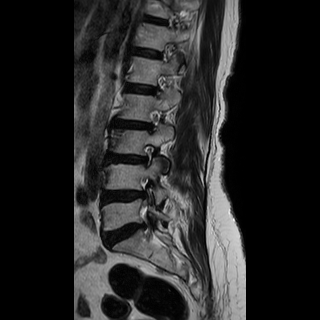RFS0: (142, 103, 166, 138)
RFS1: (134, 139, 160, 171)
